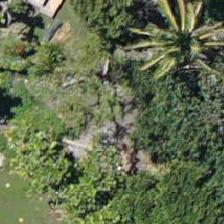coconut_tree: (137, 0, 223, 82)
